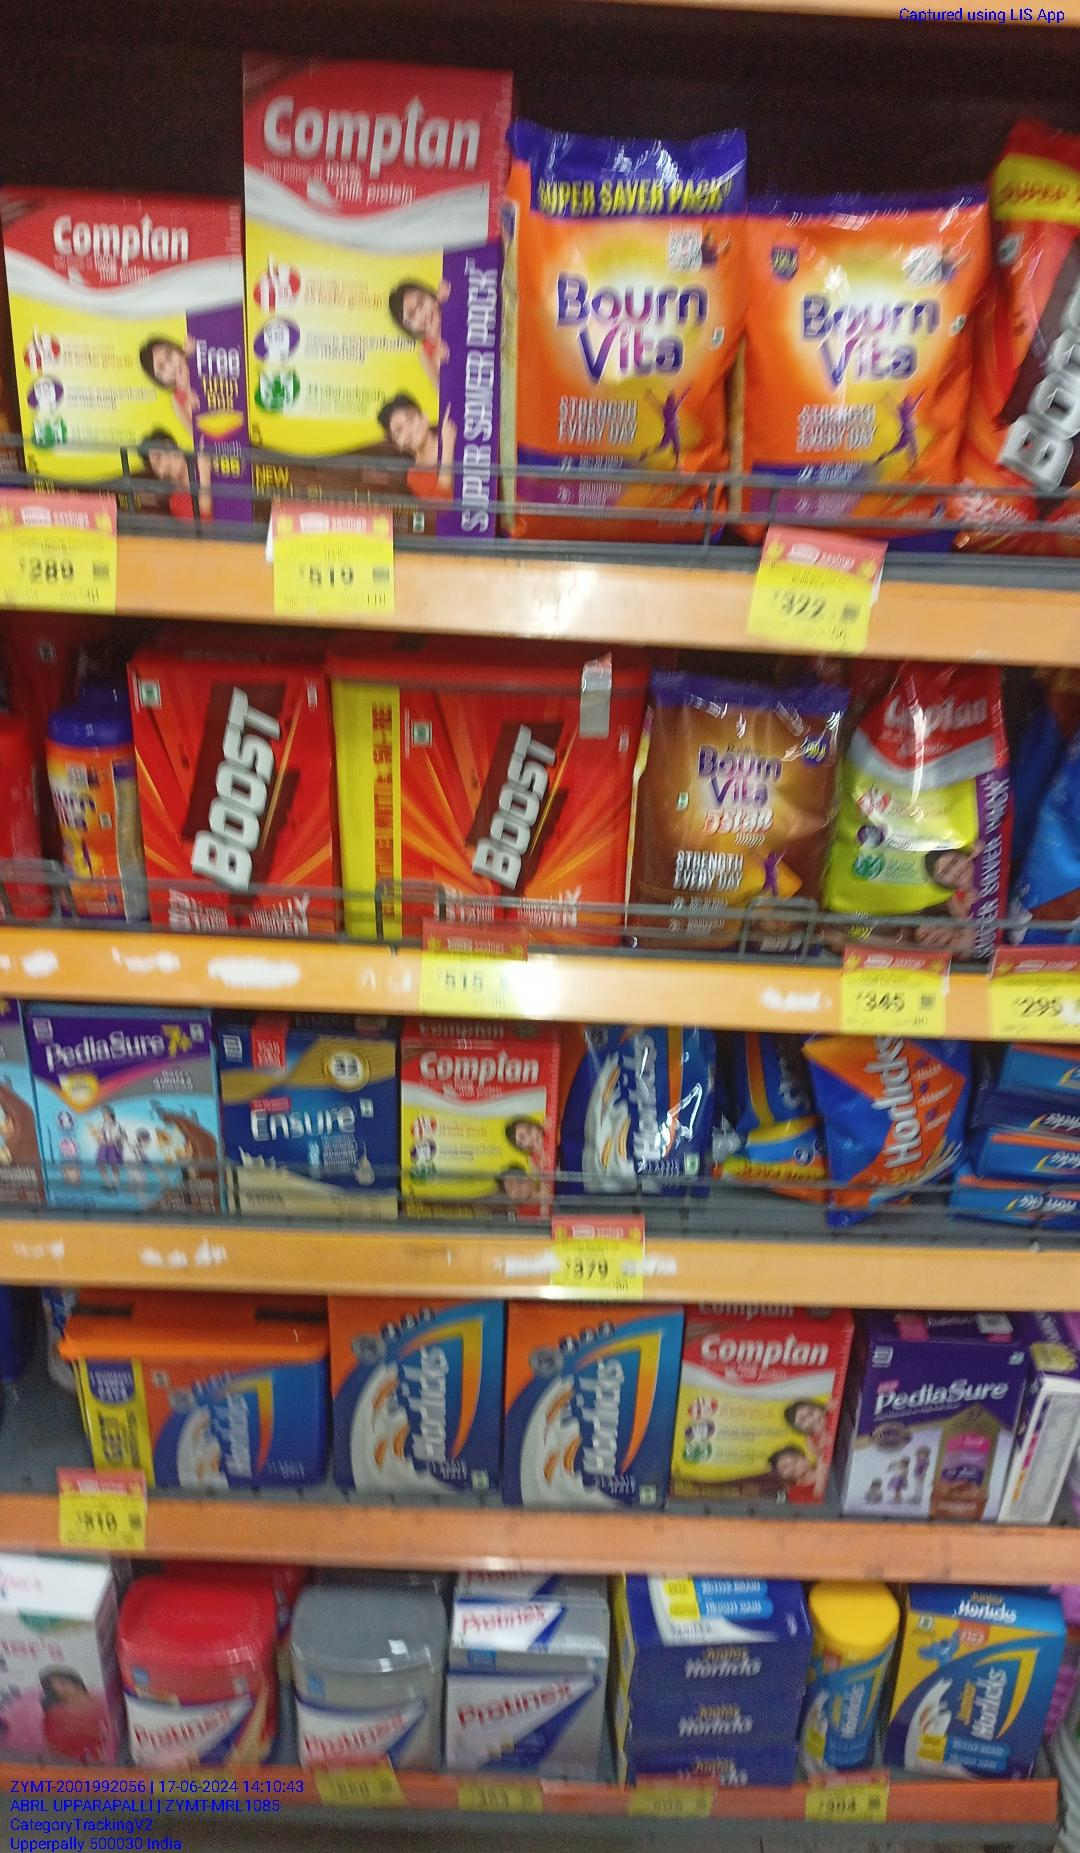BOURN_VITA_1_KG_POUCH: (512, 127, 734, 540)
BOURN_VITA_750_G_POUCH: (741, 198, 966, 544)
BOURN_VITA_FIVE_STAR_MAGIC_750_G_POUCH: (626, 671, 820, 941)
COMPLAN_CHOCOLATE_1_KG_PACK: (248, 55, 499, 540)
COMPLAN_CHOCOLATE_200_GMS_PACK: (408, 1040, 553, 1221)
COMPLAN_CHOCOLATE_500_GMS_JAR: (672, 1317, 837, 1506)
COMPLAN_CHOCOLATE_500_GMS_PACK: (10, 191, 240, 526)
COMPLAN_RC_POUCH_700_GMS_12: (825, 661, 1016, 966)
ENSURE_VANILLA_400_G_PACK: (228, 1027, 400, 1216)
HORLICKS_JUNIOR_VANILLA_500_GM_JAR: (815, 1586, 891, 1780)
HORLICK_CLASSIC_MALT_500_G_PACK: (507, 1300, 667, 1507), (338, 1300, 495, 1498)
HORLICK_MALT_1_KG_CONTAINER: (67, 1315, 323, 1488)
PEDIASURE_7_PLUS_CHOCOLATE_400_G_PACK: (41, 1007, 224, 1216)
PROTINEX_ORIGINAL_400_G_JAR: (298, 1582, 438, 1769)
PROTINEX_VANILLA_400_G_JAR: (125, 1581, 276, 1775)
